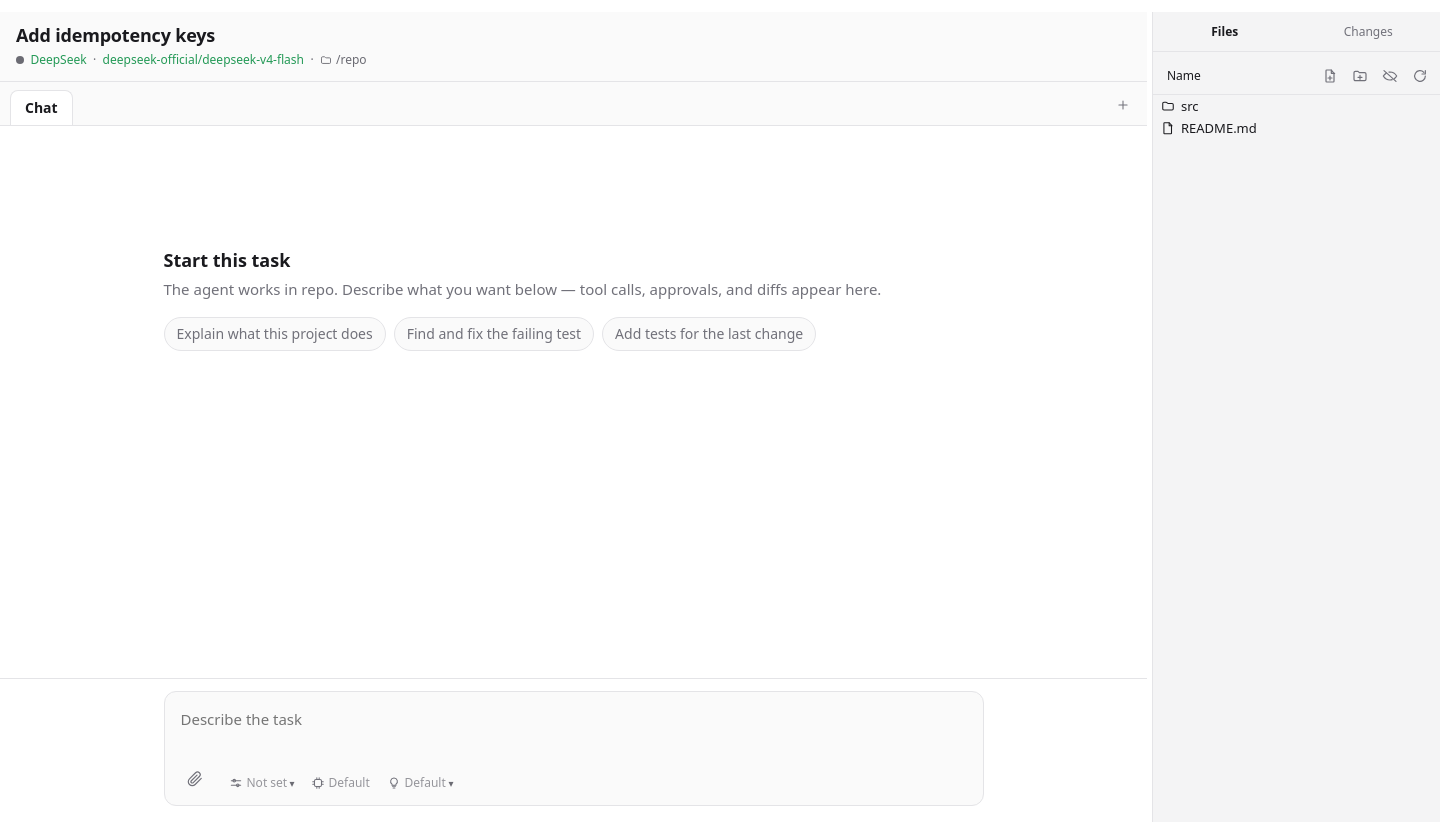
Test: the explorer sidebar › lists folders and files, and hides node_modules
Expected: the text "README.md" is shown, [1181,119,1257,137]
Click the button "src": (1168, 106) [1153,95,1440,117]
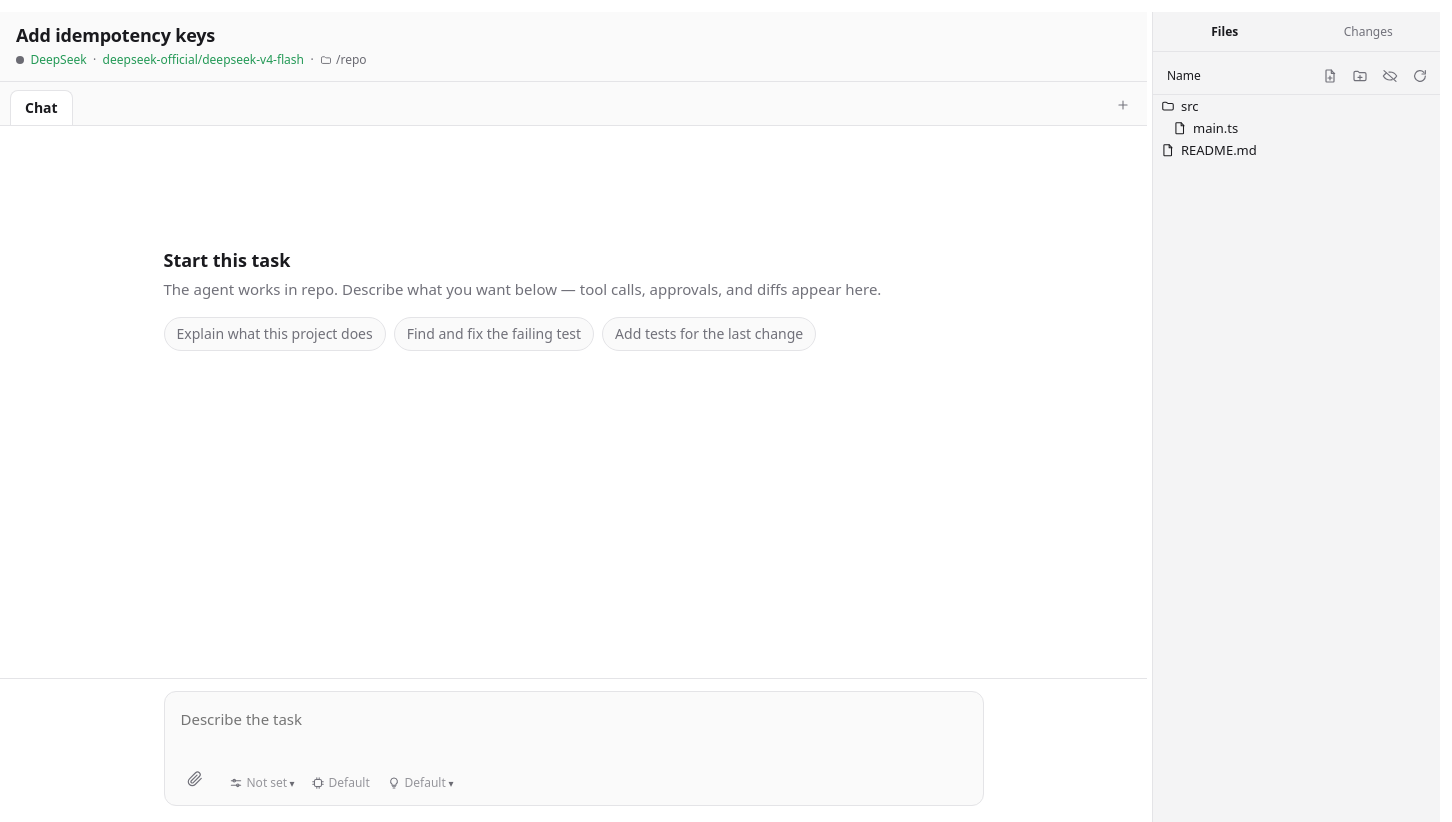
Now the text "main.ts" is shown, box [1193,119,1238,137]
